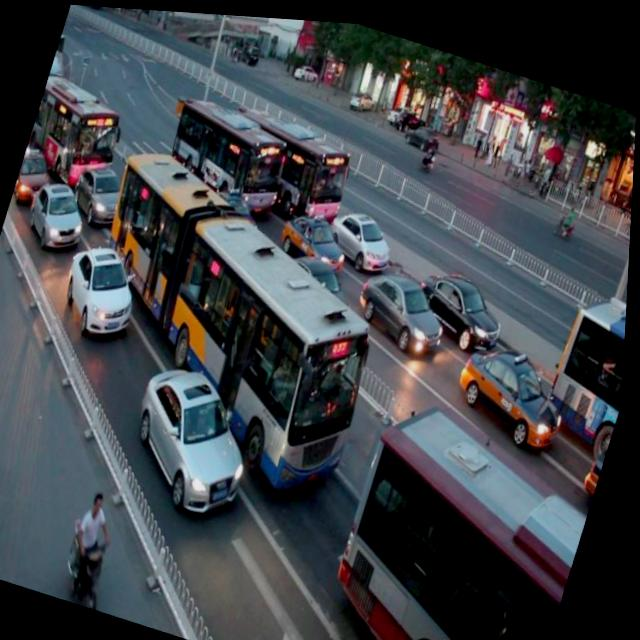car: (118, 352, 271, 519), (448, 323, 583, 452), (349, 251, 458, 357), (54, 237, 151, 345), (412, 252, 518, 350), (269, 240, 369, 336), (273, 194, 357, 278), (321, 190, 403, 274), (195, 178, 276, 256), (24, 169, 95, 256), (67, 158, 137, 234), (13, 138, 61, 210), (578, 420, 616, 510)
van: (49, 130, 419, 504), (312, 381, 610, 640), (155, 80, 302, 226), (218, 91, 365, 230), (539, 276, 630, 444), (23, 64, 133, 187)
